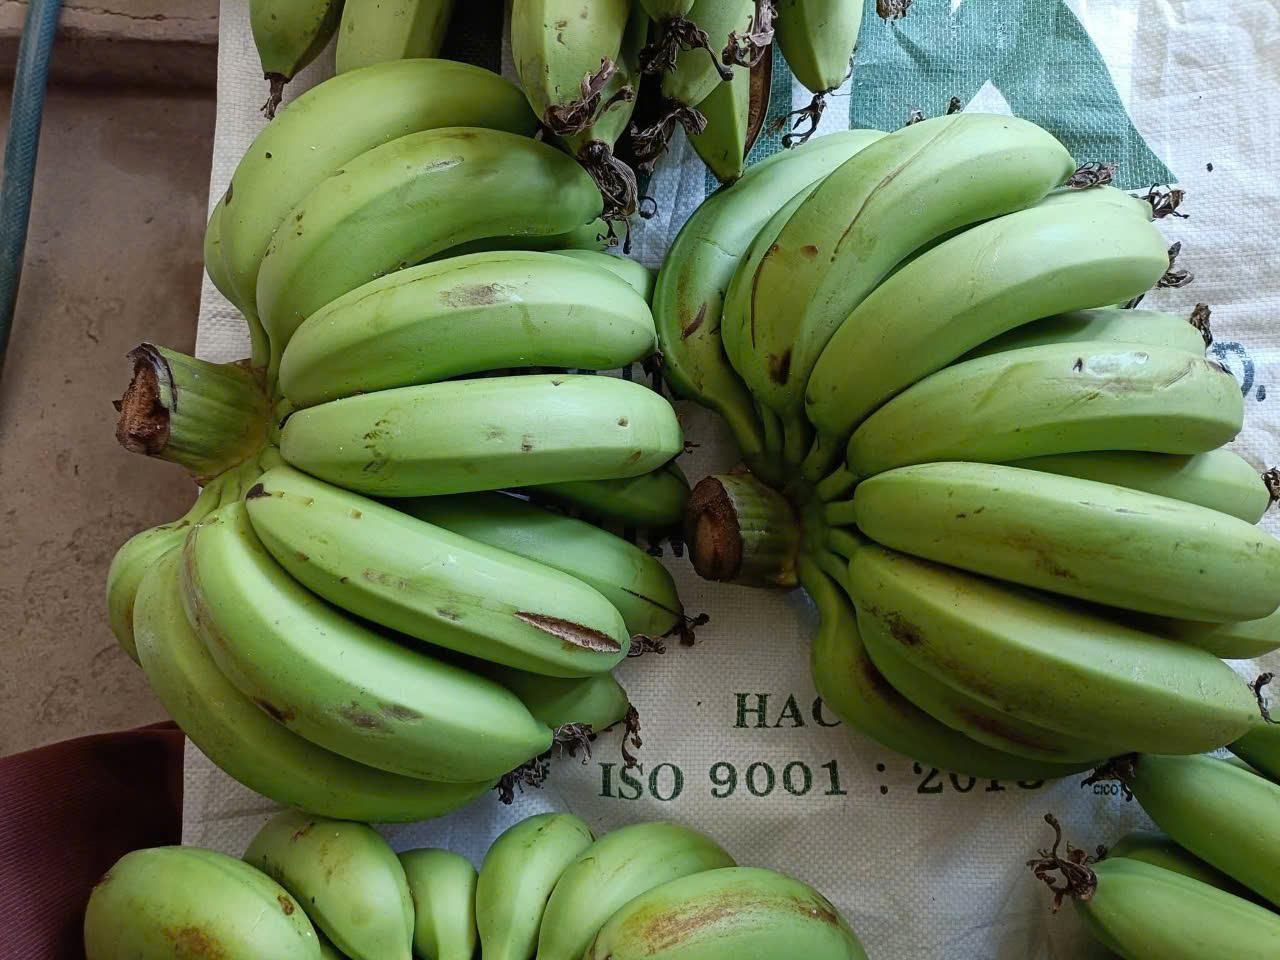banana: (101, 83, 695, 821), (715, 435, 1280, 778), (690, 100, 1276, 419)
